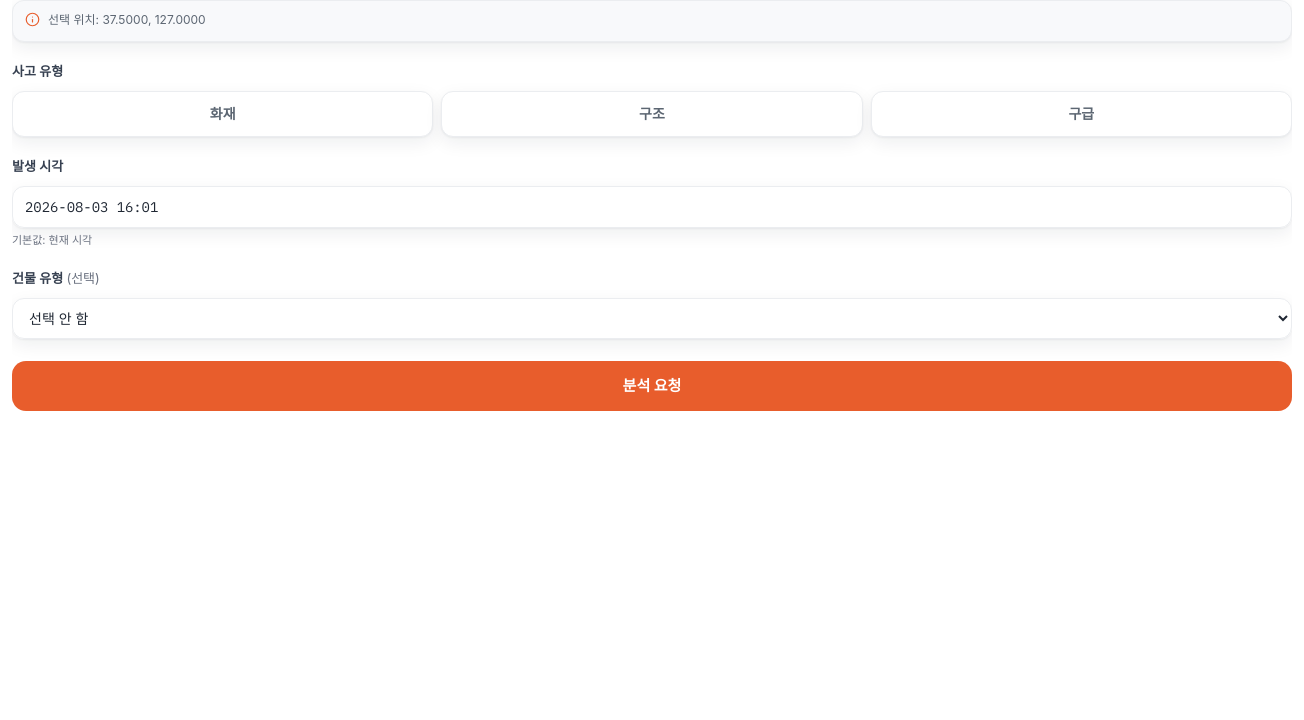
Test case: DispatchRequestForm › 인접 출동대가 비면 빈 상태를 표시한다
Click the button "화재".
click(223, 114)  # box x1=12 y1=91 x2=433 y2=137
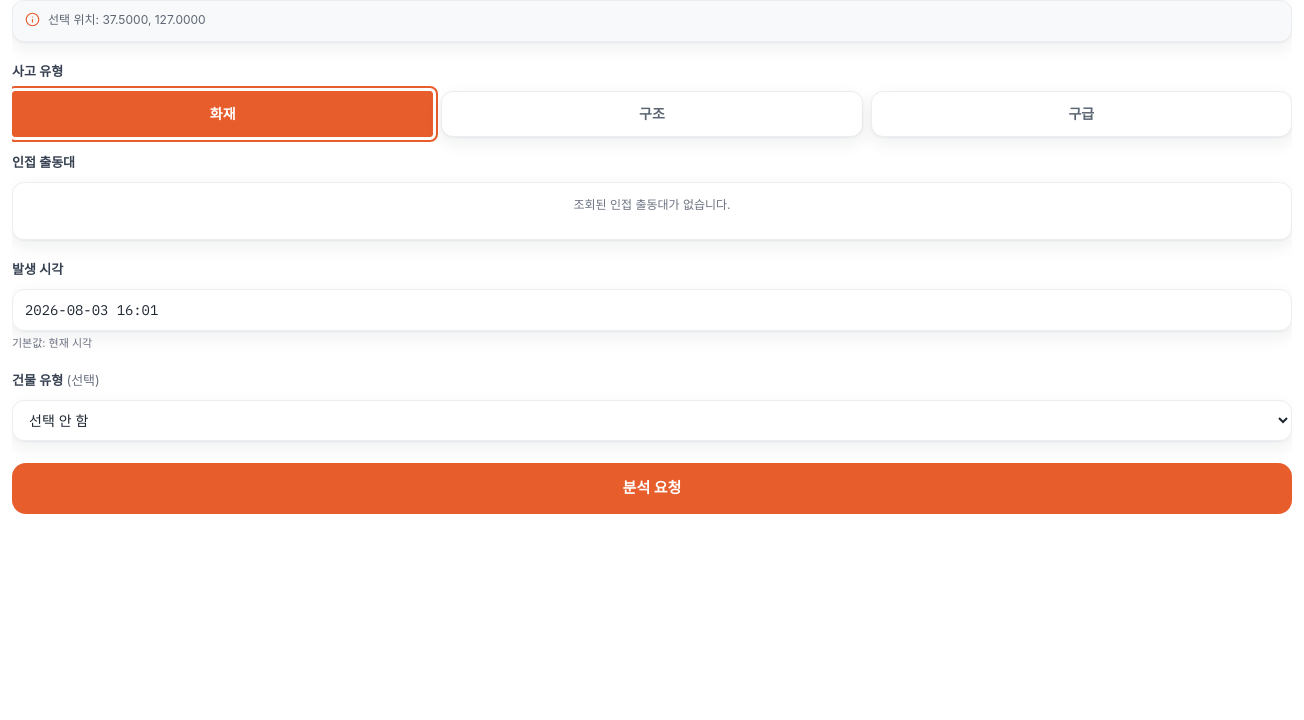
Expected: the text "조회된 인접 출동대가 없습니다." is shown, x1=573 y1=196 x2=730 y2=212
